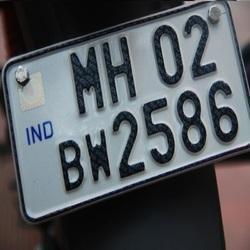plate: (3, 22, 250, 189)
